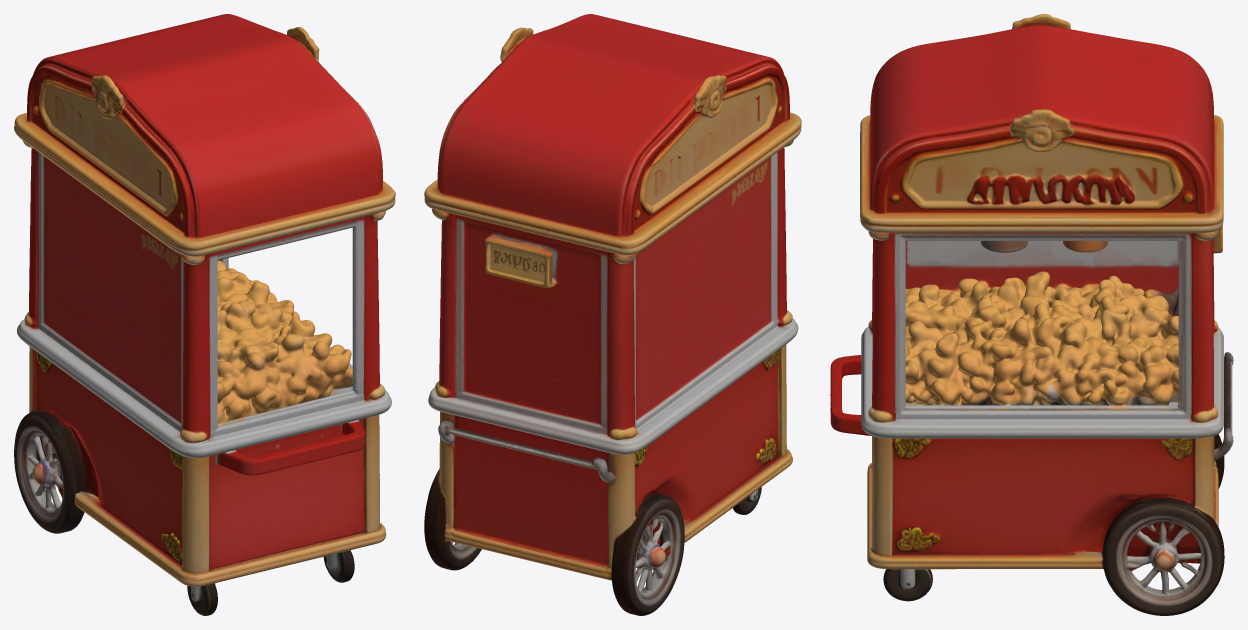
The model's file is popcorn_machine.glb.
3 renders of one model, left to right at view 1: azimuth 30°, elevation 25°; view 2: azimuth 150°, elevation 25°; view 3: azimuth 270°, elevation 25°, orthographic. The views are drawn at different scales.
Parts seen in each view (by area): view 1: tripo_node_db6a0fc6-e9af-4cba-8743-3f98d054c2a8; view 2: tripo_node_db6a0fc6-e9af-4cba-8743-3f98d054c2a8; view 3: tripo_node_db6a0fc6-e9af-4cba-8743-3f98d054c2a8.
Boxes of the visible parts, bbox=[...] form: tripo_node_db6a0fc6-e9af-4cba-8743-3f98d054c2a8: bbox=[14, 14, 395, 615]; tripo_node_db6a0fc6-e9af-4cba-8743-3f98d054c2a8: bbox=[424, 14, 801, 615]; tripo_node_db6a0fc6-e9af-4cba-8743-3f98d054c2a8: bbox=[830, 14, 1233, 615].
Size of the model in its own units: 0.4685 by 0.9999 by 0.7231.
Materials: 1 (1 with a texture image).
